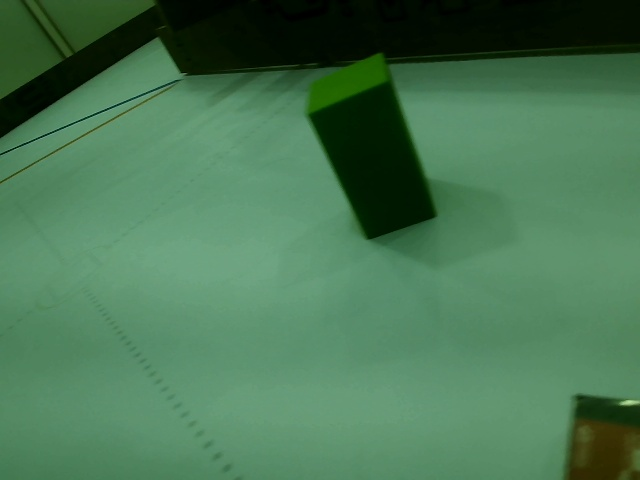green: (310, 86, 430, 229)
